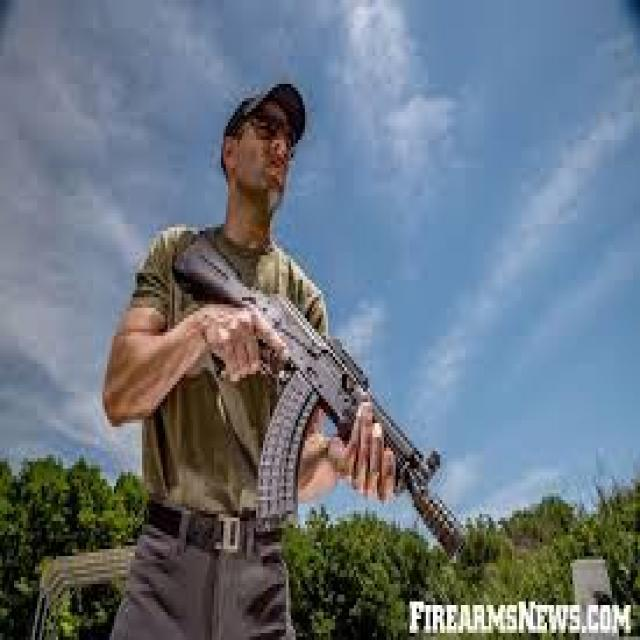weapon: (170, 232, 470, 564)
